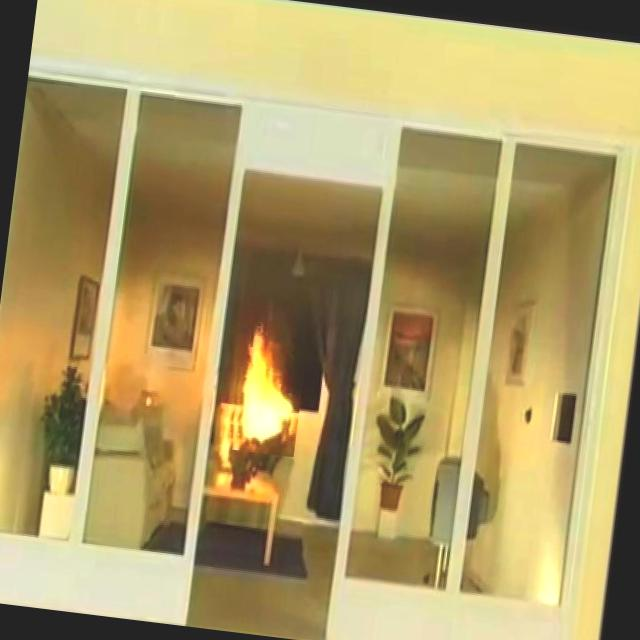fire: (218, 318, 312, 451)
